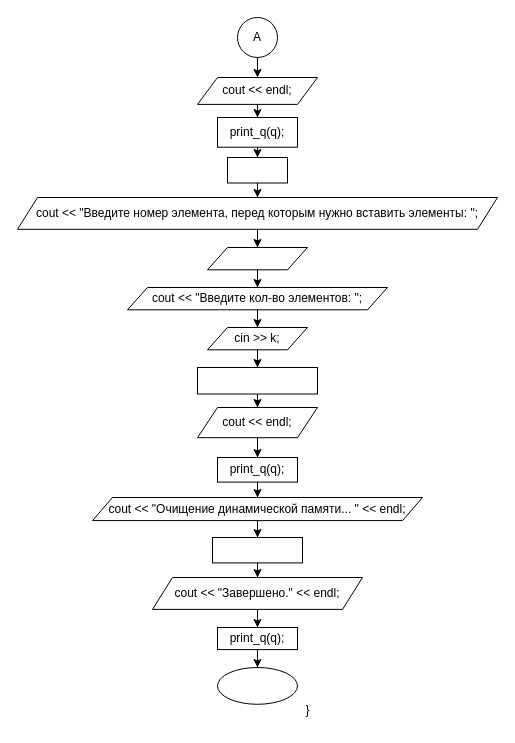
Some shapes in this 515 by 743 pixel diagram are drawn without their labels. The shapes that lost their labels are listed below. From the top down, each one's centre as x and y in pixels, then its label:
At (257,169): "int k, m;".
At (257,258): "cin >> m;".
At (257,380): "insert(q, k, m);".
At (257,549): "delete_q(q);".
At (257,685): "return 0;".
